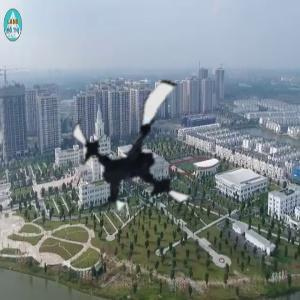drone: (68, 75, 218, 225)
